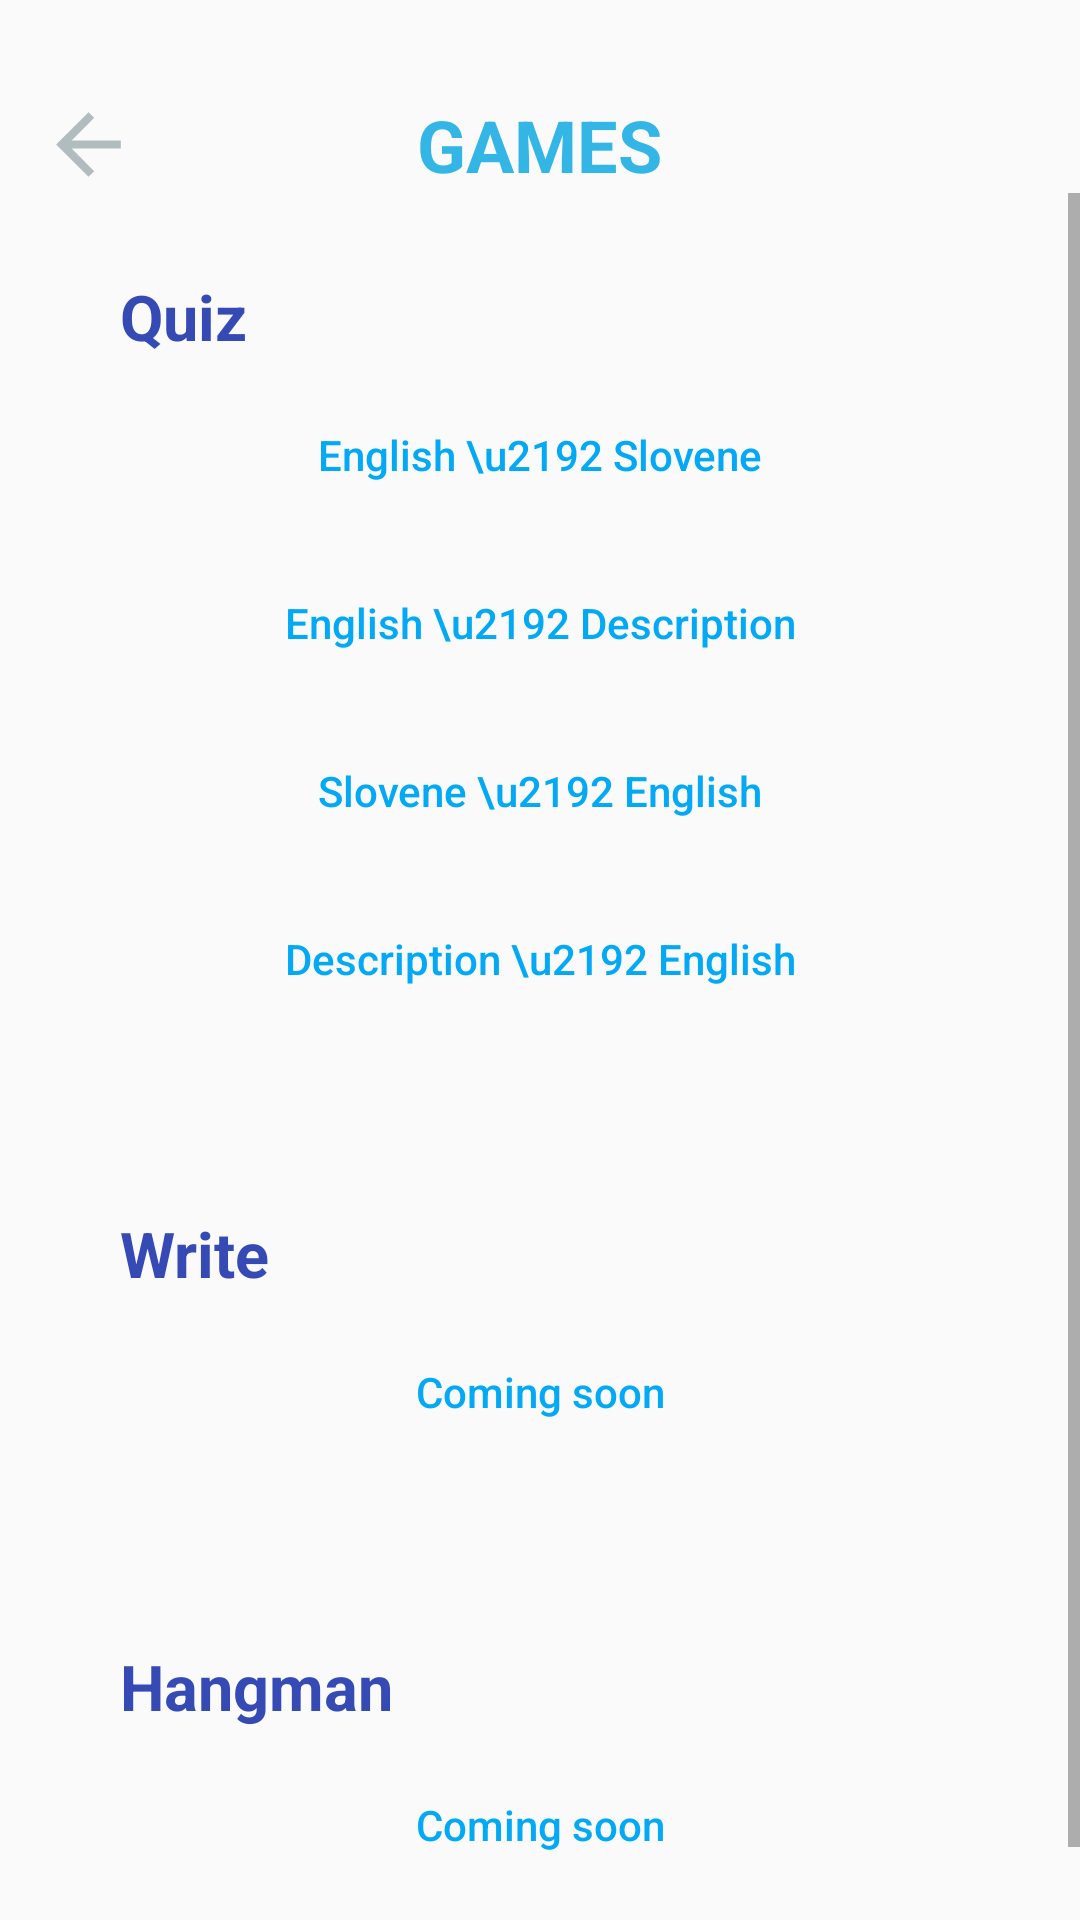

Named icons in this screenshot (1080w x 1920h) and their centers, (x=x, y=y):
back: (x=88, y=144)
